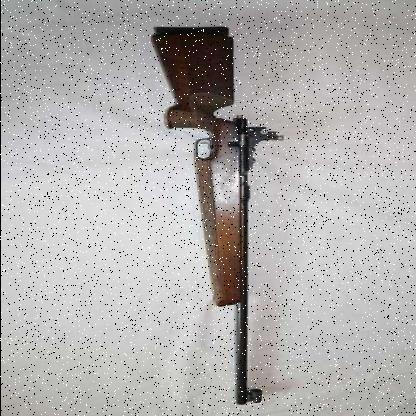rifle: (114, 18, 294, 416)
